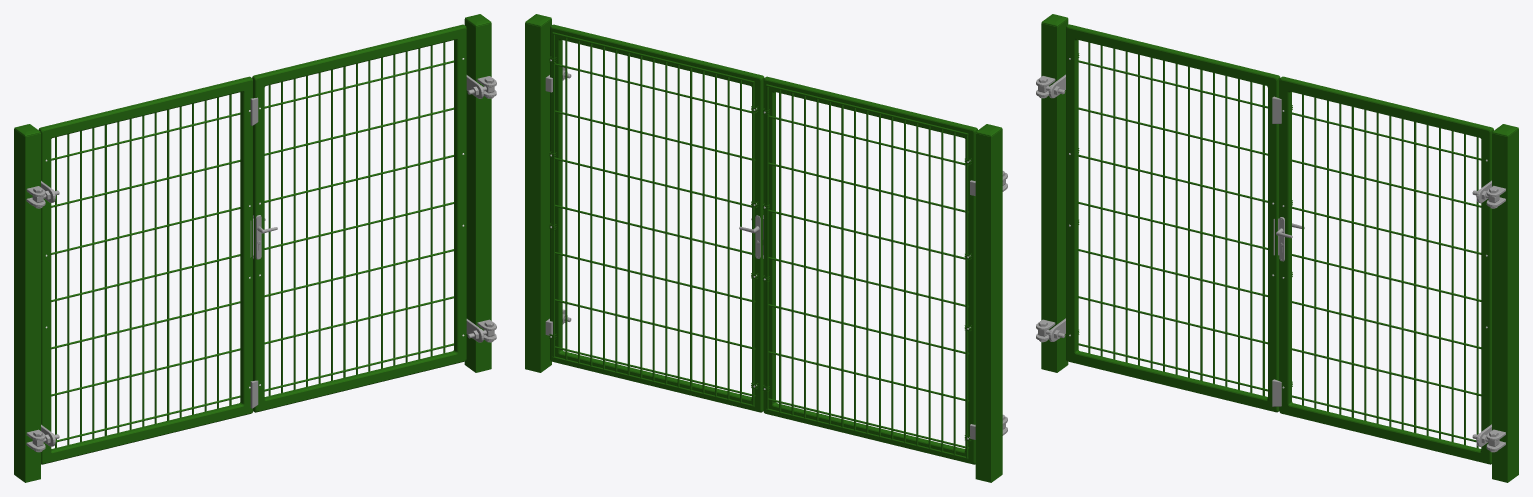
File: gate_2400.glb
3 views of the same model, side by side, from view 1: azimuth 30°, elevation 25°; view 2: azimuth 150°, elevation 25°; view 3: azimuth 330°, elevation 25° (orthographic).
Parts seen in each view (by area): view 1: Cylinder.076; view 2: Cylinder.076; view 3: Cylinder.076.
Boxes of the visible parts, x1,y1,x2,y2 form: Cylinder.076: (14, 14, 496, 482); Cylinder.076: (525, 14, 1007, 482); Cylinder.076: (1036, 14, 1518, 482).
Size of the model in its own units: 2.5 by 1.78 by 0.2324.
Materials: 3 (1 with a texture image).
